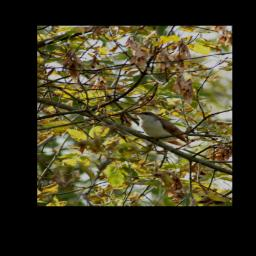Cuckoo: (128, 108, 197, 145)
